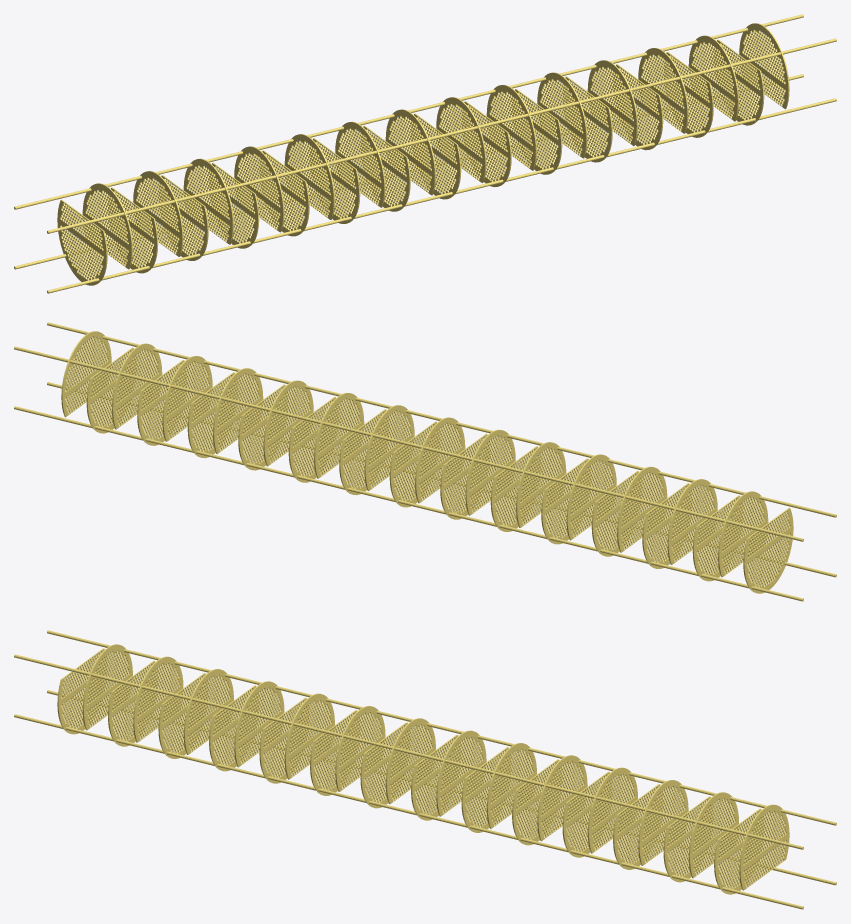
File: 9_Baffles_Serre.glb
3 renders of one model, top to bottom at view 1: azimuth 30°, elevation 25°; view 2: azimuth 150°, elevation 25°; view 3: azimuth 330°, elevation 25°, orthographic.
Parts seen in each view (by area): view 1: geometry_0; view 2: geometry_0; view 3: geometry_0.
Part boxes in pixels (x1,y1,x2,y2): geometry_0: (14, 14, 836, 293); geometry_0: (14, 322, 836, 601); geometry_0: (14, 630, 836, 909).
Bounding box in the file's own units: 1.98 × 0.2135 × 0.214.
